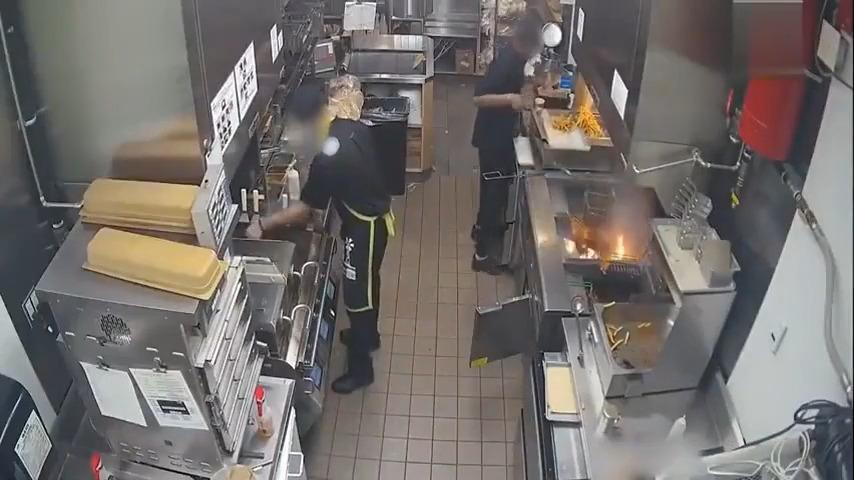fire: (613, 230, 630, 259), (579, 243, 600, 260)
